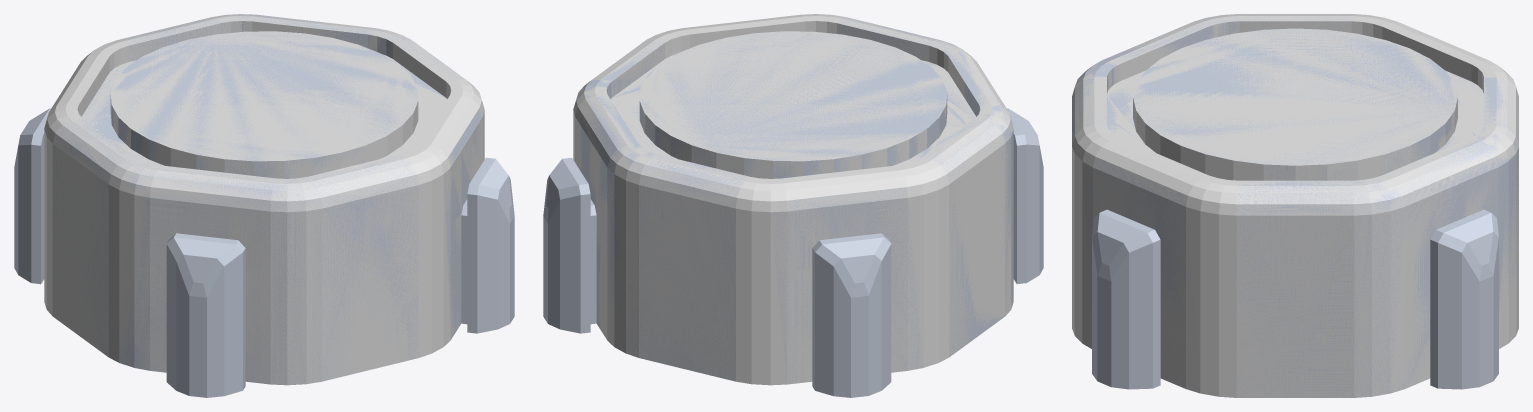
Rendered from Tower_Base(1).fbx.
3 renders of one model, left to right at view 1: azimuth 30°, elevation 25°; view 2: azimuth 150°, elevation 25°; view 3: azimuth 270°, elevation 25°, orthographic. The views are drawn at different scales.
Parts seen in each view (by area): view 1: Base, Base Copy; view 2: Base, Base Copy; view 3: Base, Base Copy.
Boxes of the visible parts, box(x1,y1,x2,y2) form: Base: box(44, 14, 484, 385); Base Copy: box(14, 14, 514, 397); Base: box(573, 14, 1013, 385); Base Copy: box(543, 18, 1043, 397); Base: box(1072, 14, 1518, 397); Base Copy: box(1072, 14, 1518, 397).
Size of the model in its own units: 100 by 50.95 by 100.
